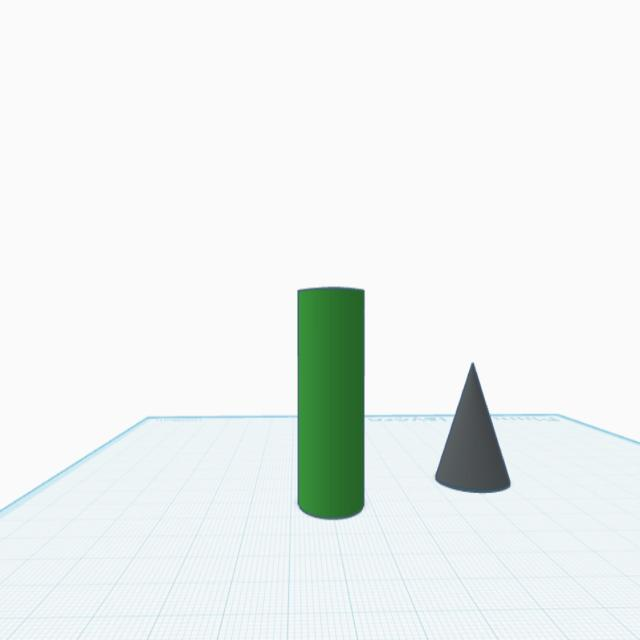cone: (432, 361, 514, 500)
